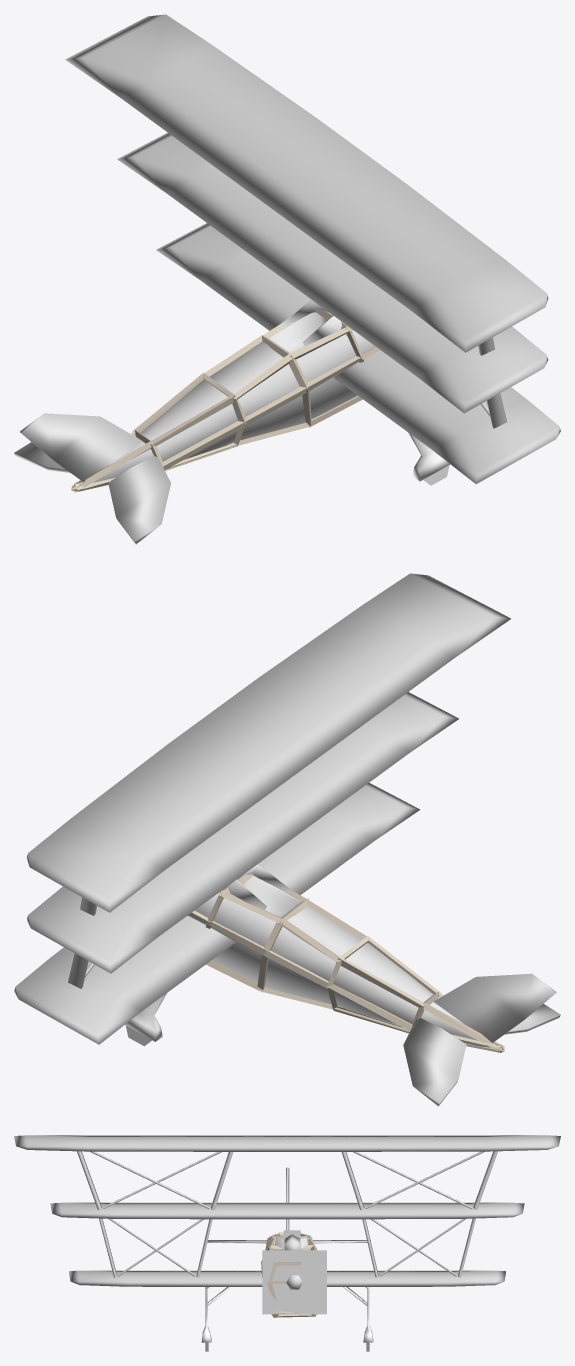
3 renders of one model, top to bottom at view 1: azimuth 30°, elevation 25°; view 2: azimuth 150°, elevation 25°; view 3: azimuth 270°, elevation 25°, orthographic. The views are drawn at different scales.
Parts seen in each view (by area): view 1: Wings.010, Wings.005, Wings, Plane, Frame, Rudder, Elevator, LandingGearFront.001, Window; view 2: Wings.010, Wings.005, Wings, Plane, Frame, Rudder, Elevator, LandingGearFront.001, Window; view 3: Wings.010, Wings.005, Wings, Cube, Wings.009, Wings.008, Wings.007, Wings.006, Frame, LandingGearFront.001, Elevator, Cylinder.
Part boxes in pixels (box(x1,y1,x2,y2)): Wings.010: box(65, 14, 548, 352); Wings.005: box(117, 132, 548, 413); Wings: box(156, 223, 560, 484); Plane: box(93, 312, 374, 482); Frame: box(71, 309, 379, 492); Rudder: box(20, 413, 142, 482); Elevator: box(14, 442, 171, 544); LandingGearFront.001: box(408, 432, 450, 485); Window: box(279, 300, 342, 346); Wings.010: box(26, 573, 510, 912); Wings.005: box(26, 692, 458, 973); Wings: box(14, 782, 420, 1044); Plane: box(188, 876, 478, 1040); Frame: box(189, 874, 504, 1052); Rudder: box(433, 973, 556, 1042); Elevator: box(403, 1004, 560, 1106); LandingGearFront.001: box(125, 993, 166, 1046); Window: box(228, 864, 290, 910); Wings.010: box(14, 1135, 560, 1151); Wings.005: box(50, 1202, 524, 1219); Wings: box(69, 1270, 505, 1286); Cube: box(262, 1250, 326, 1314); Wings.009: box(90, 1151, 484, 1208); Wings.008: box(77, 1151, 497, 1209); Wings.007: box(108, 1218, 466, 1276); Wings.006: box(99, 1218, 475, 1277); Frame: box(261, 1232, 317, 1317); LandingGearFront.001: box(201, 1287, 373, 1351); Elevator: box(207, 1240, 370, 1243); Cylinder: box(283, 1230, 300, 1250).
Size of the model in its own units: 1090 by 689 by 1698.
